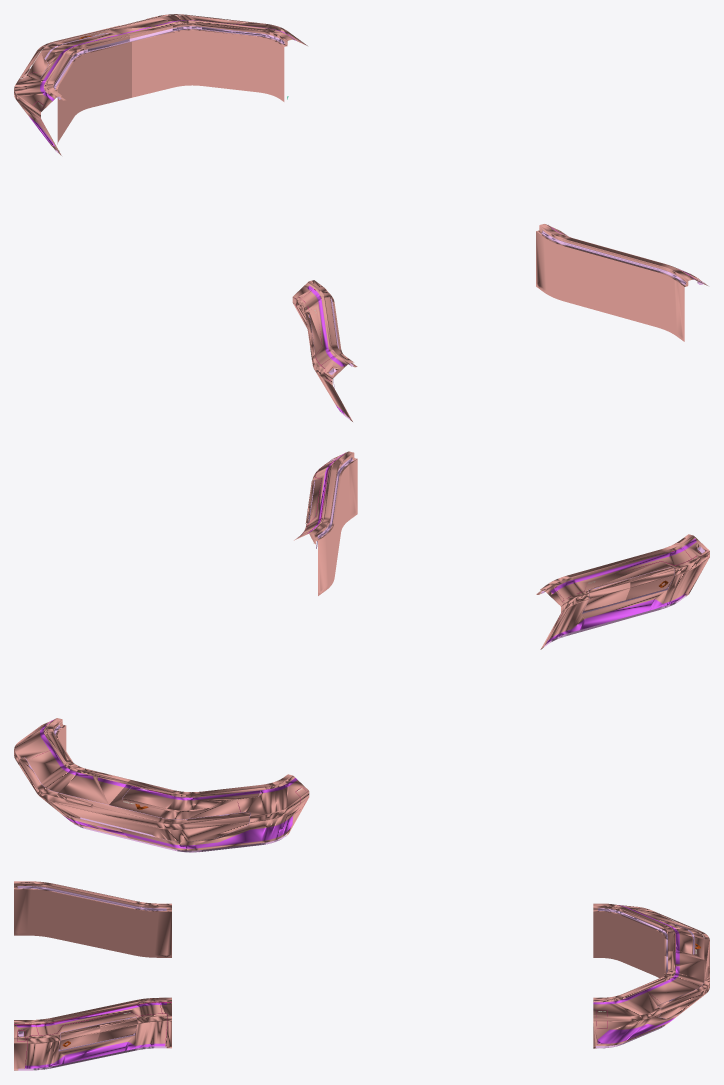
The model's file is plate_48_cap_a_trim_a.glb.
3 views of the same model, one above another, from view 1: azimuth 30°, elevation 25°; view 2: azimuth 150°, elevation 25°; view 3: azimuth 270°, elevation 25° (orthographic). The views are drawn at different scales.
Bounding box in the file's own units: 55.5 × 8.5 × 106.
